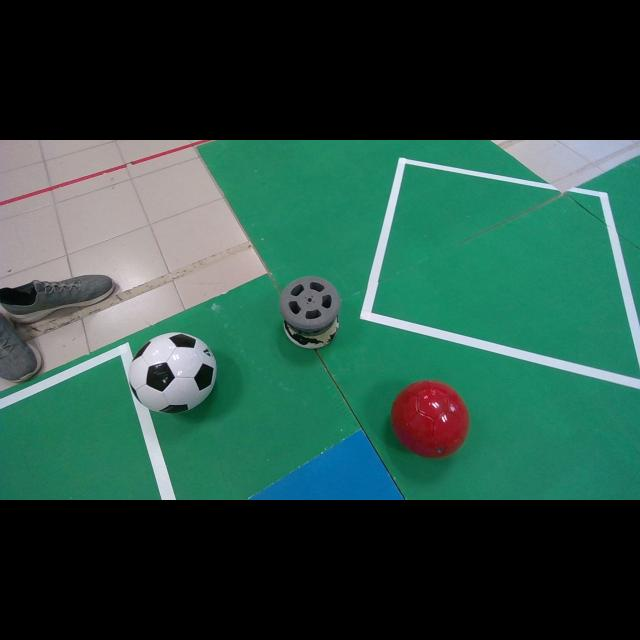R: (391, 381, 469, 458)
